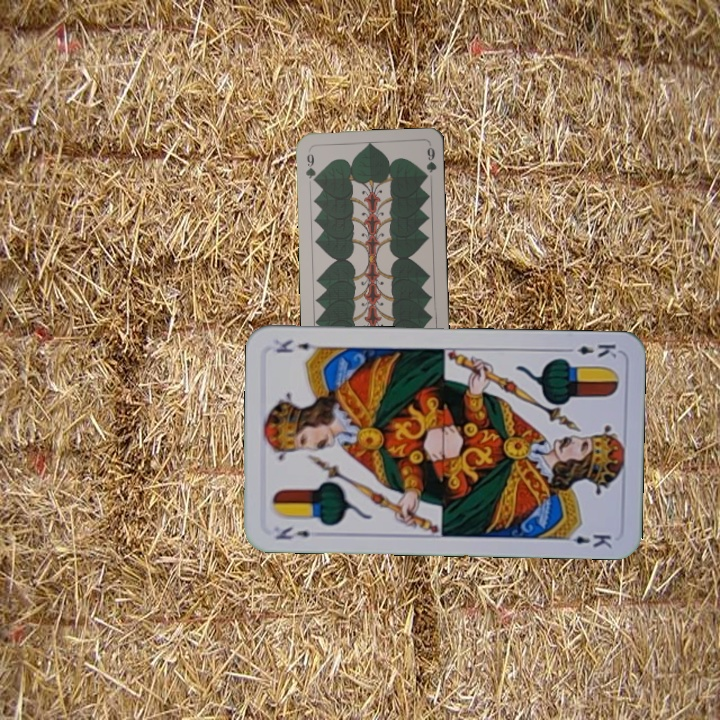EK: (560, 340, 619, 360), (271, 522, 313, 542)
G9: (302, 146, 319, 186)
